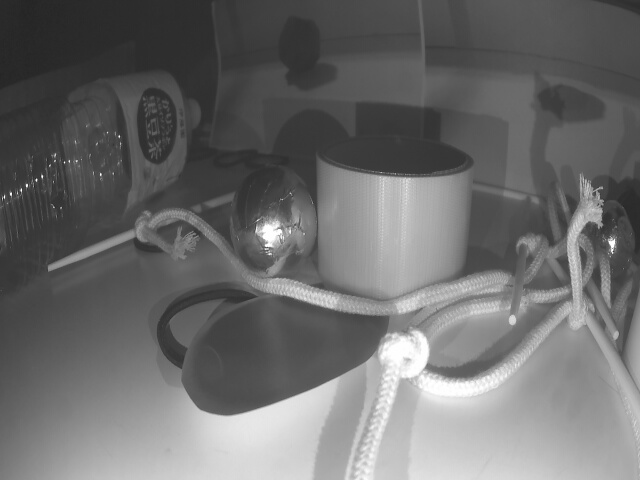Live: (231, 162, 324, 278), (583, 191, 634, 278)
